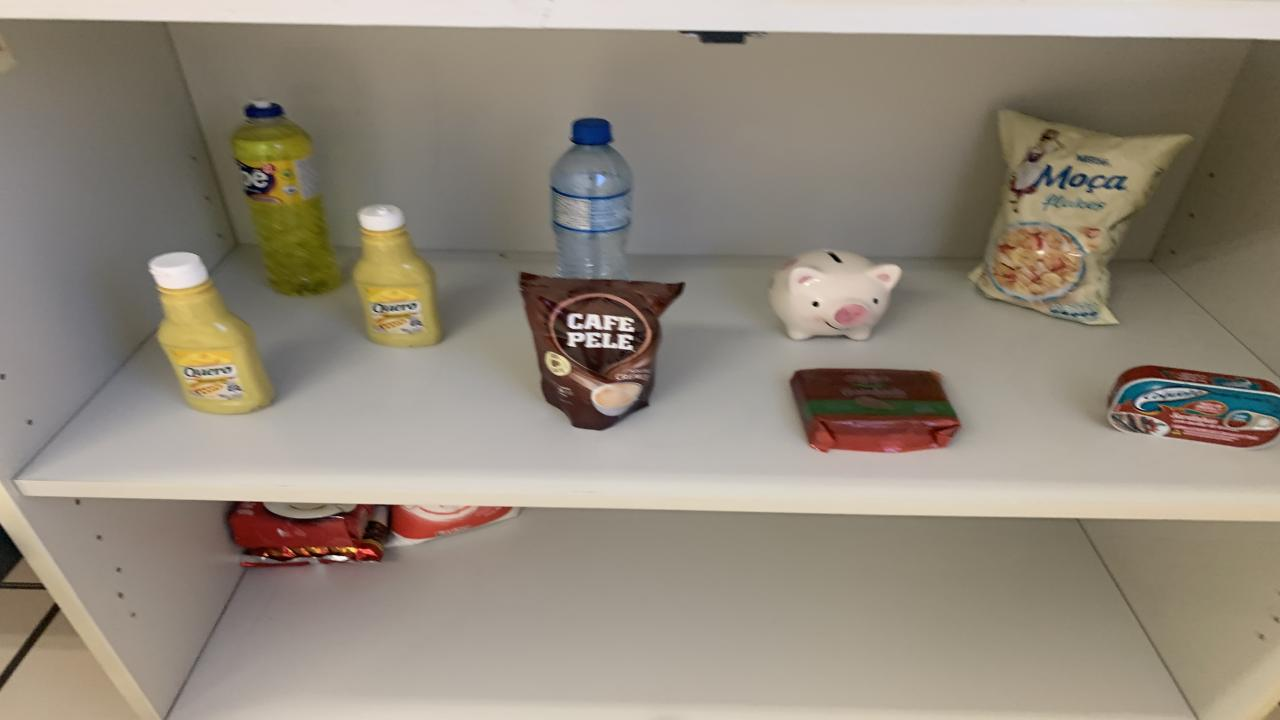Coffee-Pantry_Items: (520, 272, 685, 429)
Detergent-Cleanup_Items: (230, 101, 340, 294)
Flakes-Snacks: (970, 111, 1192, 324)
Guava-Snacks: (790, 369, 960, 452)
Mustard-Pantry_Items: (150, 251, 275, 414), (352, 204, 442, 347)
Pig_Safe-Miscellaneous: (770, 249, 902, 339)
Tuna_Can-Pantry_Items: (1108, 366, 1280, 448)
Water_Bottle-Drinks: (550, 118, 632, 279)
